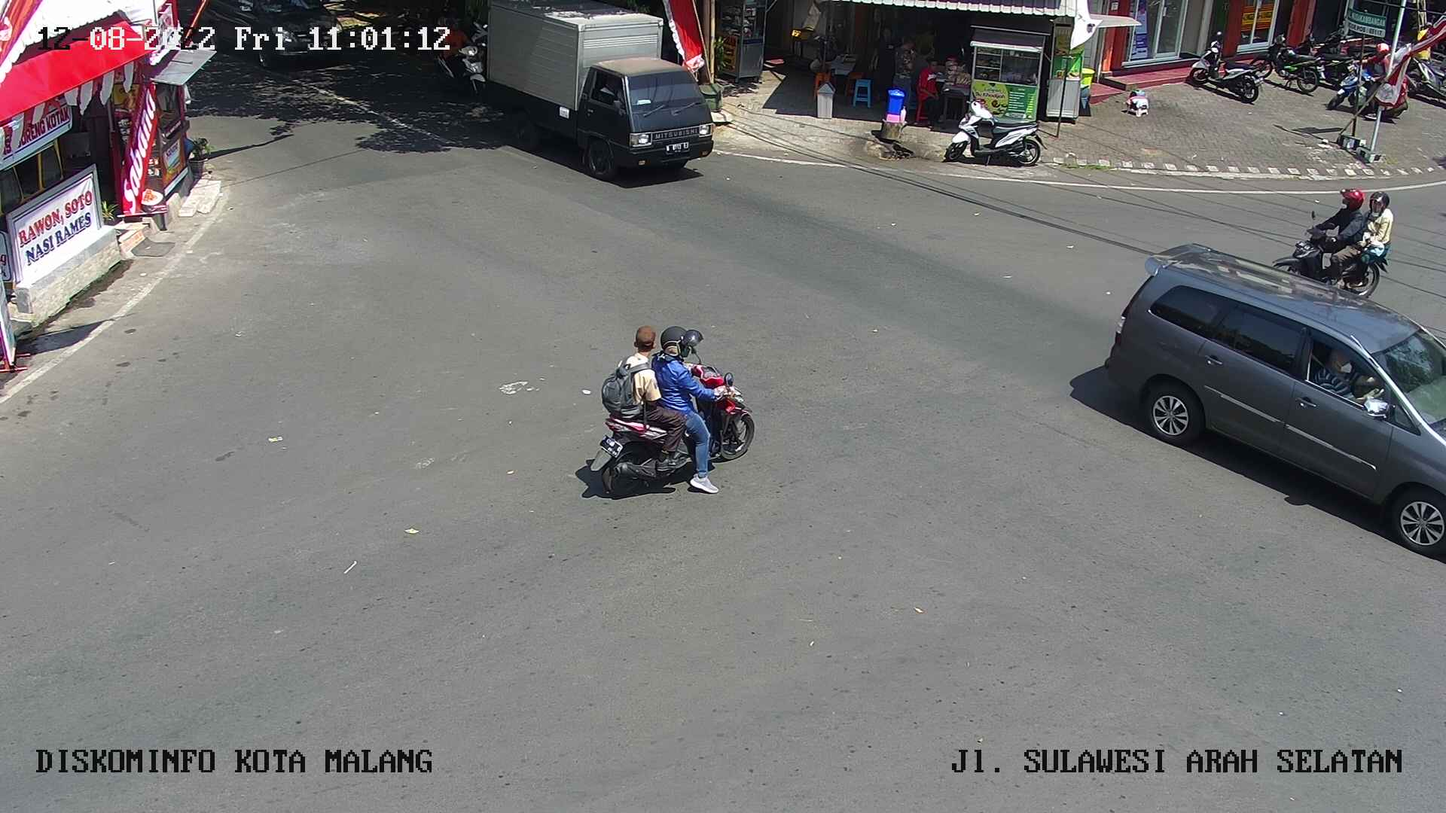with_helmet: (588, 271, 764, 517), (1275, 164, 1397, 326)
